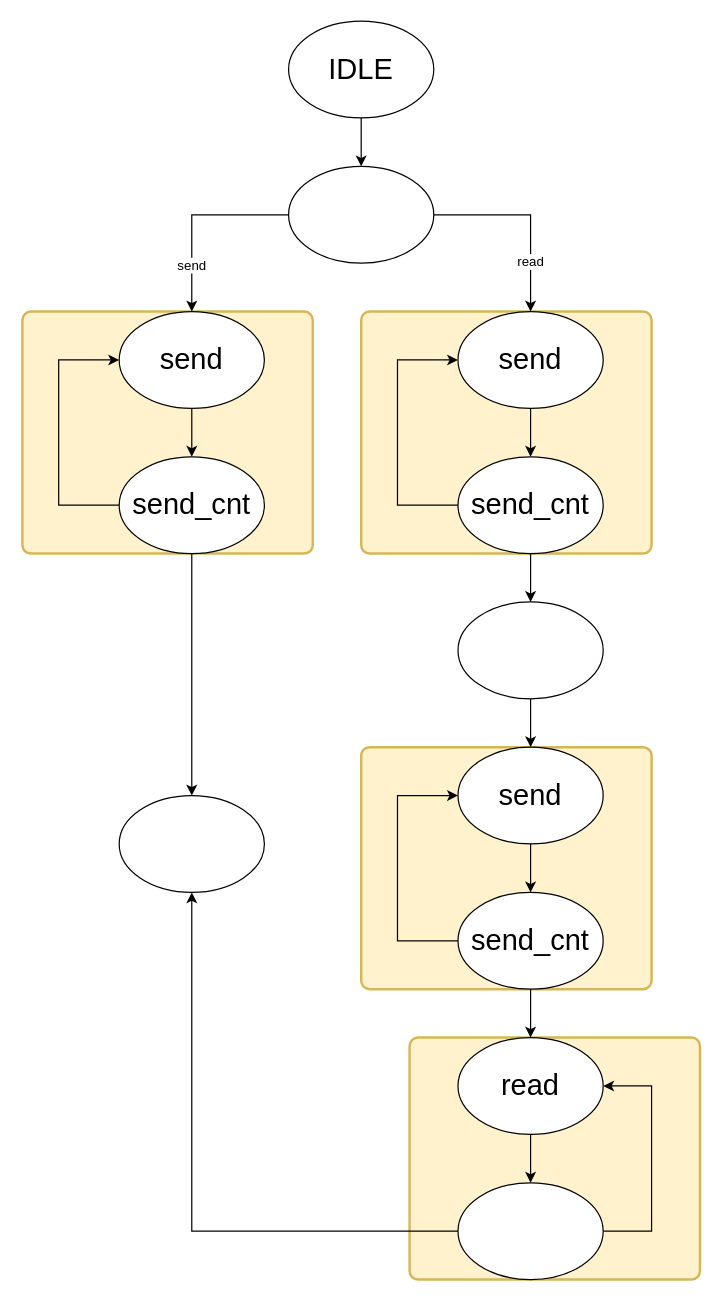
Image size: 721x1302. Some labels were removed from this diagram. Here are the shapes that lost their labels. From the top down, the centre of each, then its label:
At point 360,214: "START".
At point 530,650: "RE_START".
At point 191,843: "STOP".
At point 530,1231: "read_cnt".
